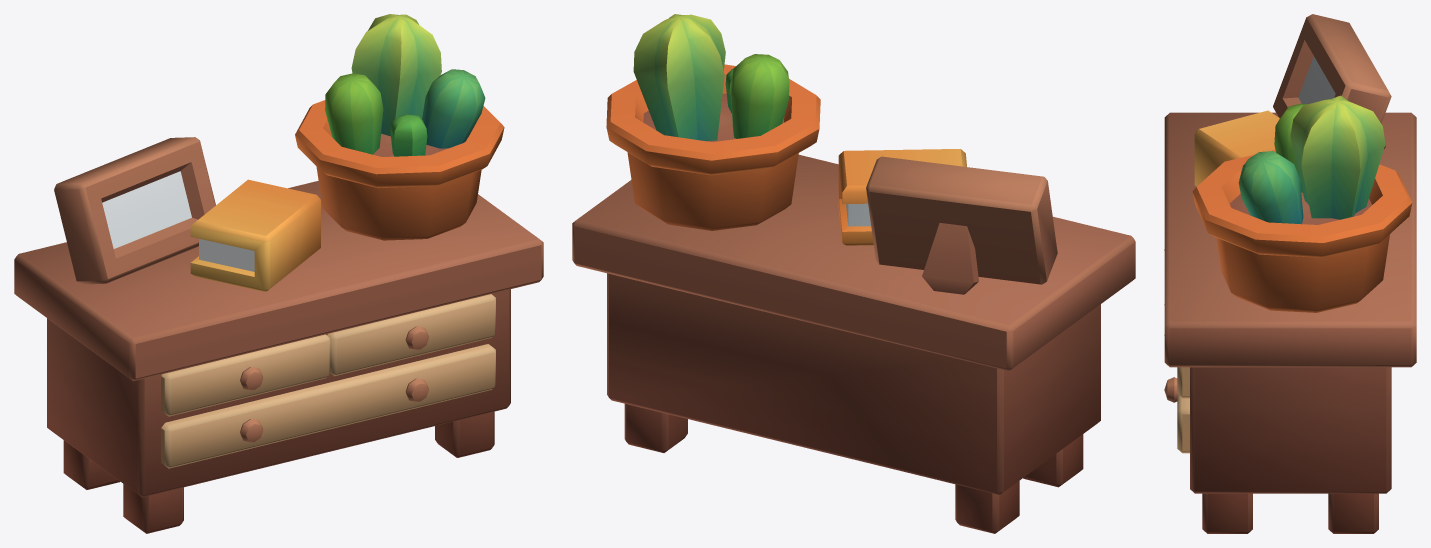
Rendered from kay-comoda.gltf.
3 views of the same model, side by side, from view 1: azimuth 30°, elevation 25°; view 2: azimuth 150°, elevation 25°; view 3: azimuth 270°, elevation 25° (orthographic). The views are drawn at different scales.
Visible parts, largest first — view 1: cabinet_medium_decorated; view 2: cabinet_medium_decorated; view 3: cabinet_medium_decorated.
Part boxes in pixels (box(x1,y1,x2,y2)): cabinet_medium_decorated: box(14, 14, 543, 533); cabinet_medium_decorated: box(572, 14, 1135, 533); cabinet_medium_decorated: box(1164, 14, 1416, 533).
Bounding box in the file's own units: 1.33 × 1.19 × 0.651.
Materials: 1 (1 with a texture image).
